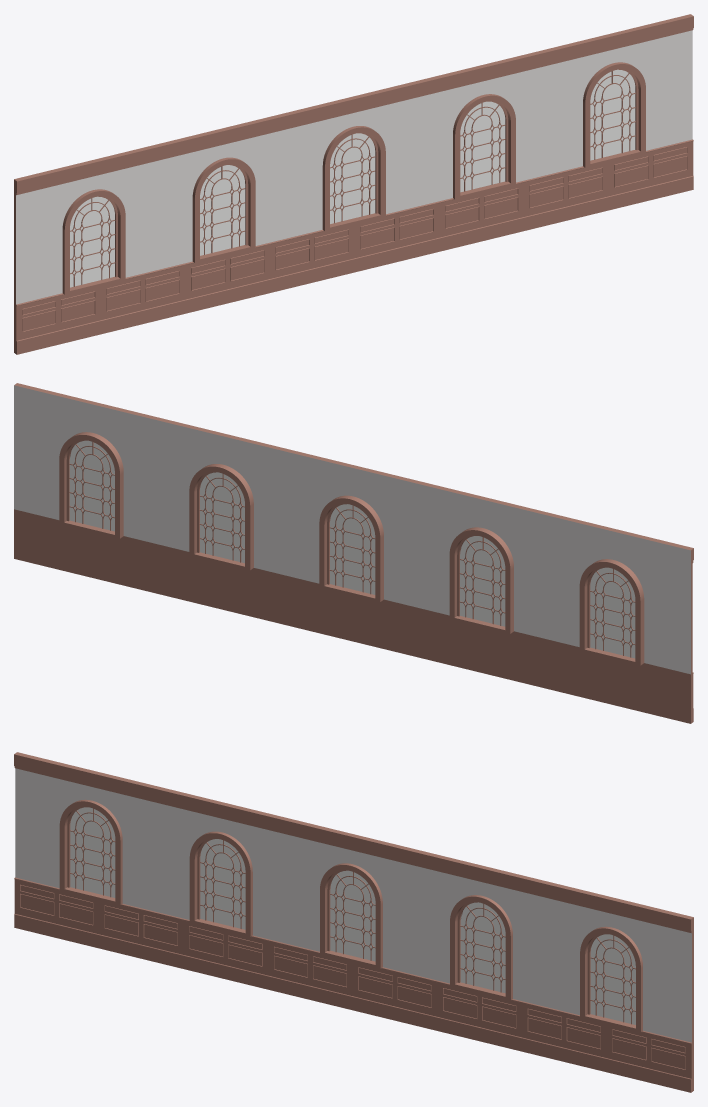
File: 895_wall_with_waistwall_with_window.glb
3 renders of one model, top to bottom at view 1: azimuth 30°, elevation 25°; view 2: azimuth 150°, elevation 25°; view 3: azimuth 330°, elevation 25°, orthographic.
Parts seen in each view (by area): view 1: body; view 2: body; view 3: body.
Part boxes in pixels (<box>): body: <box>14,14,693,354</box>; body: <box>14,383,693,723</box>; body: <box>14,752,693,1092</box>.
Bounding box in the file's own units: 20 × 4.9 × 0.4.
